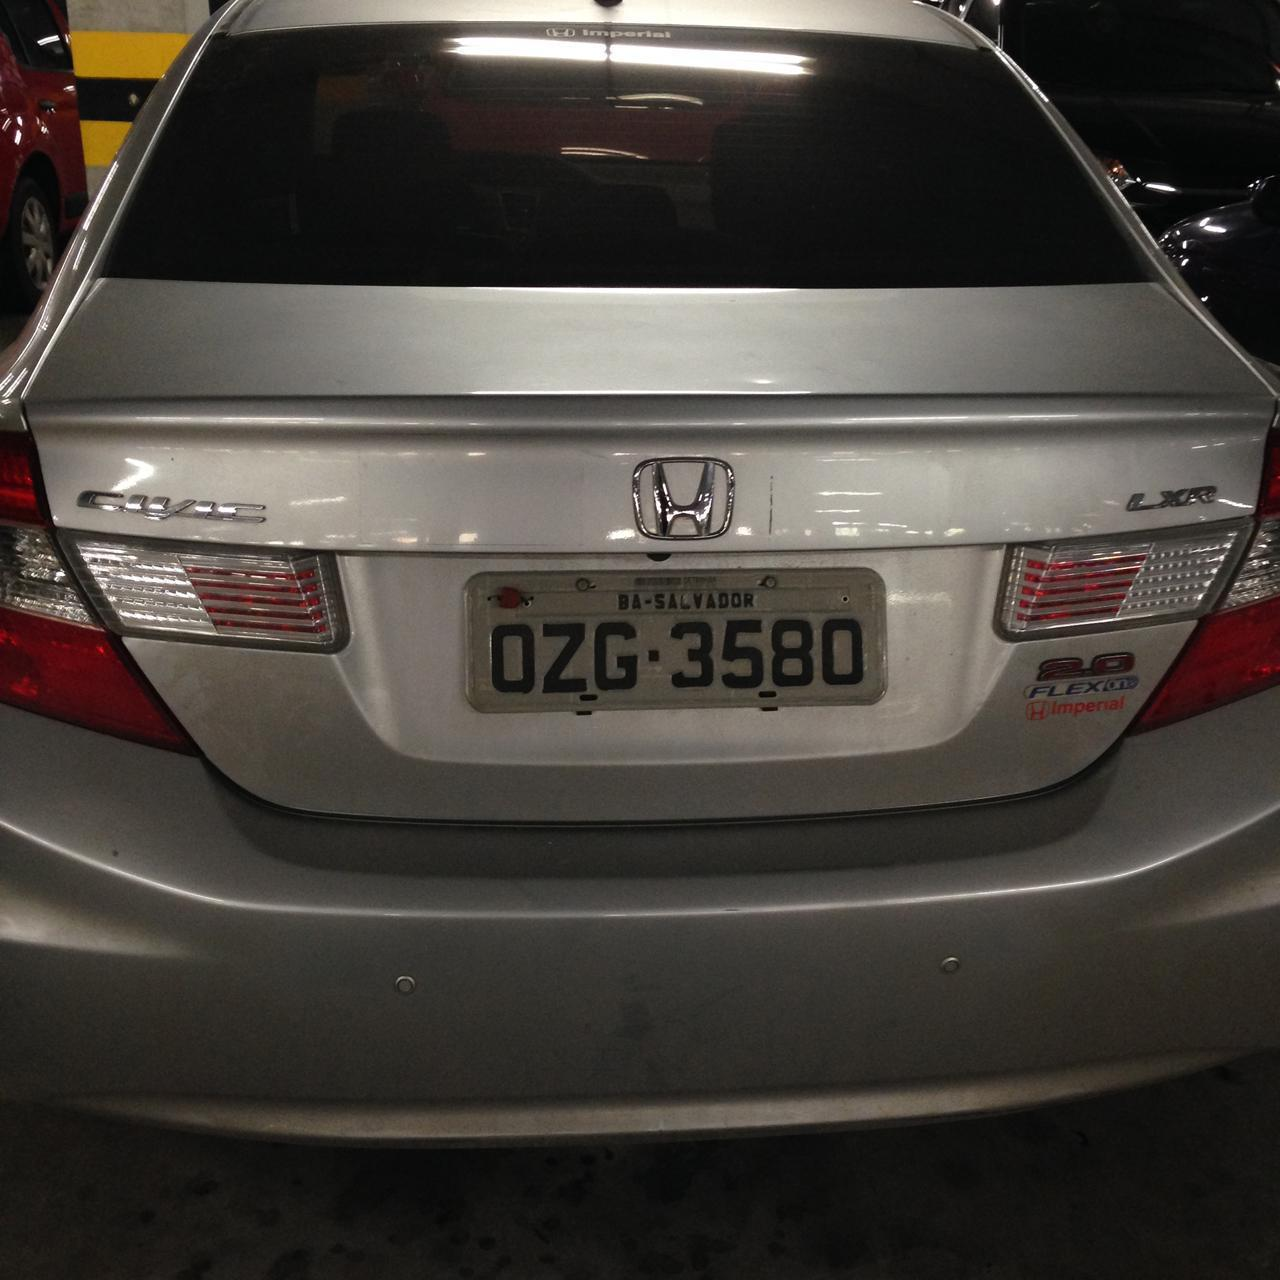placa de veiculo: (436, 553, 935, 760)
